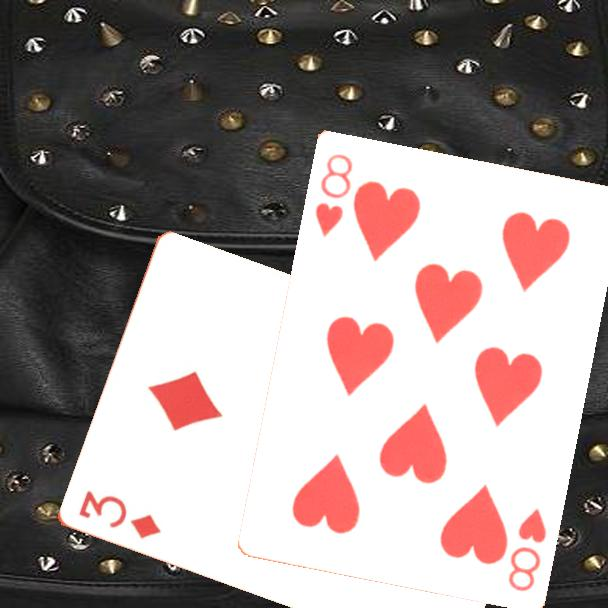d03: (74, 487, 163, 543)
h08: (504, 504, 549, 594), (311, 149, 355, 240)
